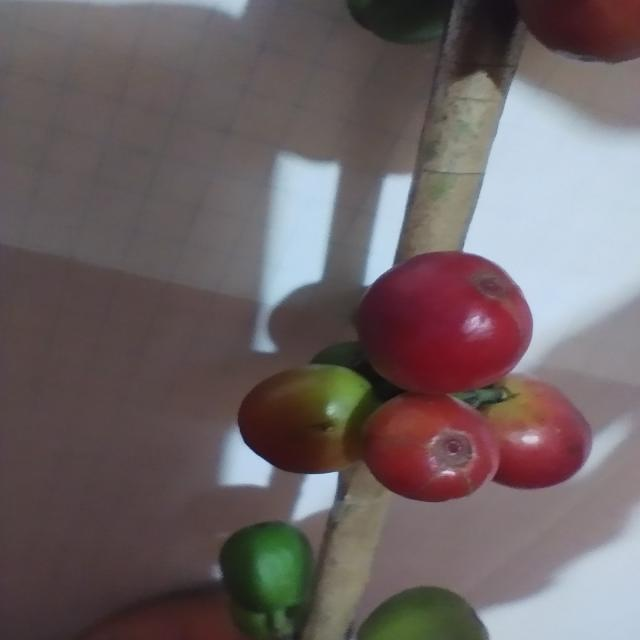Sano: (355, 252, 533, 395), (236, 364, 384, 477), (361, 394, 501, 503), (490, 374, 592, 489)
